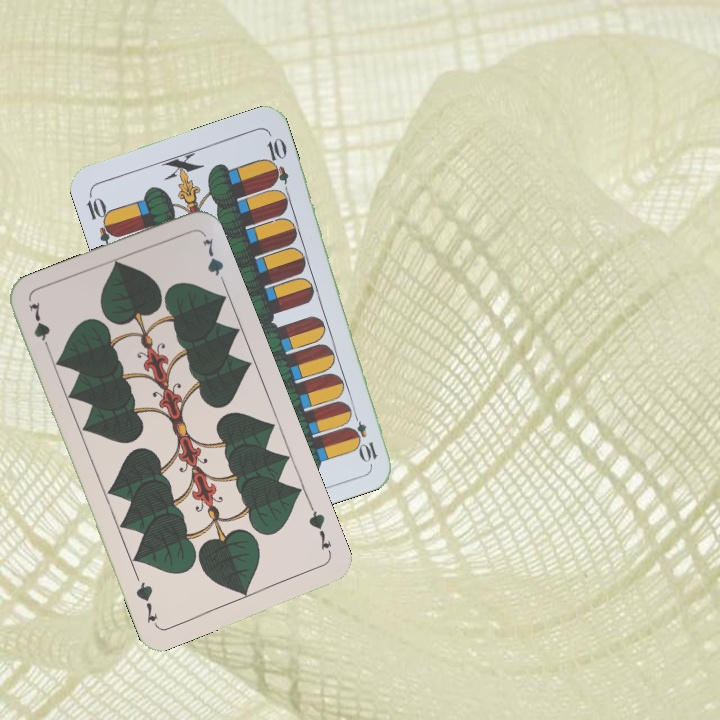E10: (82, 189, 121, 246), (347, 407, 380, 465)
G7: (304, 501, 335, 558), (24, 298, 54, 356)
